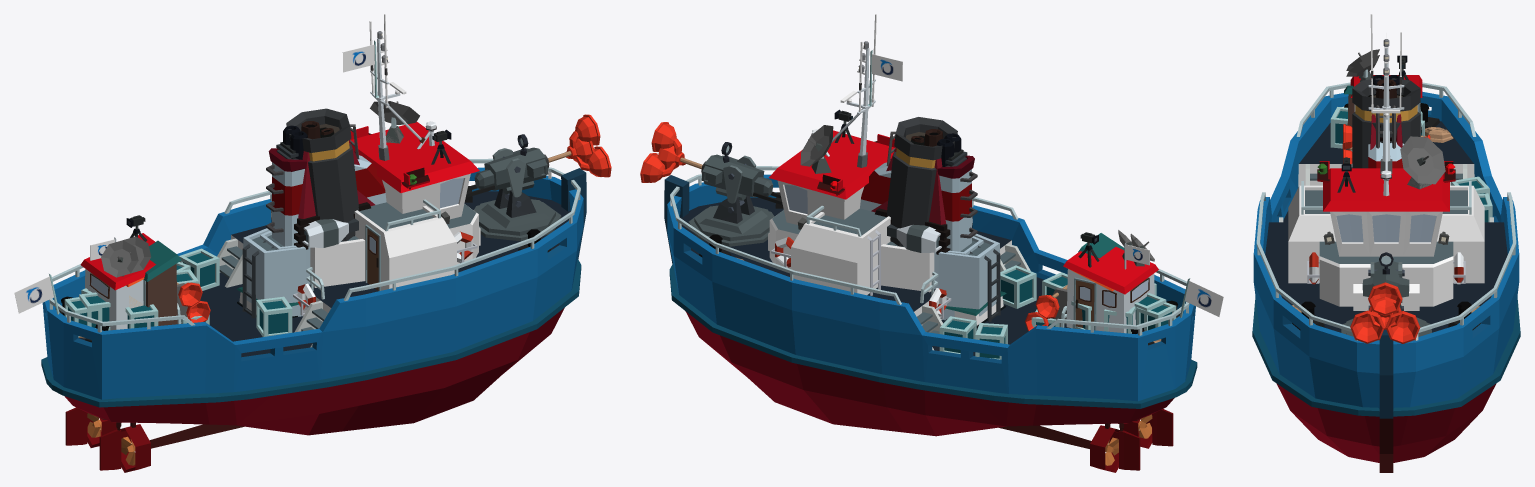
The model's file is PlayerBoat.fbx.
The picture shows the model from 3 angles, left to right: view 1: azimuth 30°, elevation 25°; view 2: azimuth 150°, elevation 25°; view 3: azimuth 270°, elevation 25°; orthographic projection. The views are drawn at different scales.
Visible parts, largest first — view 1: Boat, Currency Upgrade 4, Chimney Upgrade 4, Chimney Upgrade 1, PlungerGun Basic, PlungerGun Upgrade, Currency Upgrade 2, Currency Upgrade 3, Chimney Upgrade 2, Currency Upgrade 1, Plunger Upgrade; view 2: Boat, Currency Upgrade 4, Chimney Upgrade 4, Chimney Upgrade 1, PlungerGun Basic, PlungerGun Upgrade, Chimney Upgrade 2, Currency Upgrade 3, Plunger Upgrade, Currency Upgrade 2, Currency Upgrade 1; view 3: Boat, Chimney Upgrade 1, Currency Upgrade 4, Plunger Upgrade, Currency Upgrade 1, PlungerGun Upgrade, Chimney Upgrade 4, Chimney Upgrade 2, Currency Upgrade 3, PlungerGun Basic, Currency Upgrade 2, Plunger Basic.
Part boxes in pixels (x1=…): Boat: x1=41, y1=14, x2=586, y2=472; Currency Upgrade 4: x1=14, y1=40, x2=451, y2=336; Chimney Upgrade 4: x1=242, y1=125, x2=386, y2=318; Chimney Upgrade 1: x1=236, y1=108, x2=359, y2=314; PlungerGun Basic: x1=465, y1=148, x2=561, y2=241; PlungerGun Upgrade: x1=474, y1=134, x2=549, y2=217; Currency Upgrade 2: x1=78, y1=240, x2=209, y2=338; Currency Upgrade 3: x1=79, y1=102, x2=419, y2=330; Chimney Upgrade 2: x1=271, y1=121, x2=375, y2=249; Currency Upgrade 1: x1=64, y1=101, x2=418, y2=337; Plunger Upgrade: x1=566, y1=114, x2=611, y2=177; Boat: x1=664, y1=14, x2=1197, y2=472; Currency Upgrade 4: x1=737, y1=50, x2=1223, y2=359; Chimney Upgrade 4: x1=860, y1=133, x2=1000, y2=321; Chimney Upgrade 1: x1=886, y1=117, x2=1005, y2=325; PlungerGun Basic: x1=688, y1=155, x2=782, y2=246; PlungerGun Upgrade: x1=701, y1=142, x2=773, y2=223; Chimney Upgrade 2: x1=871, y1=129, x2=972, y2=254; Currency Upgrade 3: x1=736, y1=148, x2=1166, y2=341; Plunger Upgrade: x1=640, y1=122, x2=685, y2=182; Currency Upgrade 2: x1=1031, y1=233, x2=1124, y2=329; Currency Upgrade 1: x1=801, y1=127, x2=1176, y2=333; Boat: x1=1252, y1=14, x2=1520, y2=472; Chimney Upgrade 1: x1=1352, y1=78, x2=1420, y2=168; Currency Upgrade 4: x1=1292, y1=33, x2=1492, y2=312; Plunger Upgrade: x1=1350, y1=282, x2=1420, y2=343; Currency Upgrade 1: x1=1330, y1=107, x2=1447, y2=188; PlungerGun Upgrade: x1=1362, y1=252, x2=1409, y2=310; Chimney Upgrade 4: x1=1351, y1=75, x2=1403, y2=168; Chimney Upgrade 2: x1=1370, y1=79, x2=1402, y2=149; Currency Upgrade 3: x1=1346, y1=55, x2=1476, y2=309; PlungerGun Basic: x1=1341, y1=262, x2=1431, y2=340; Currency Upgrade 2: x1=1344, y1=85, x2=1448, y2=150; Plunger Basic: x1=1368, y1=296, x2=1401, y2=329.
Bounding box in the file's own units: 1468 × 974 × 568.
